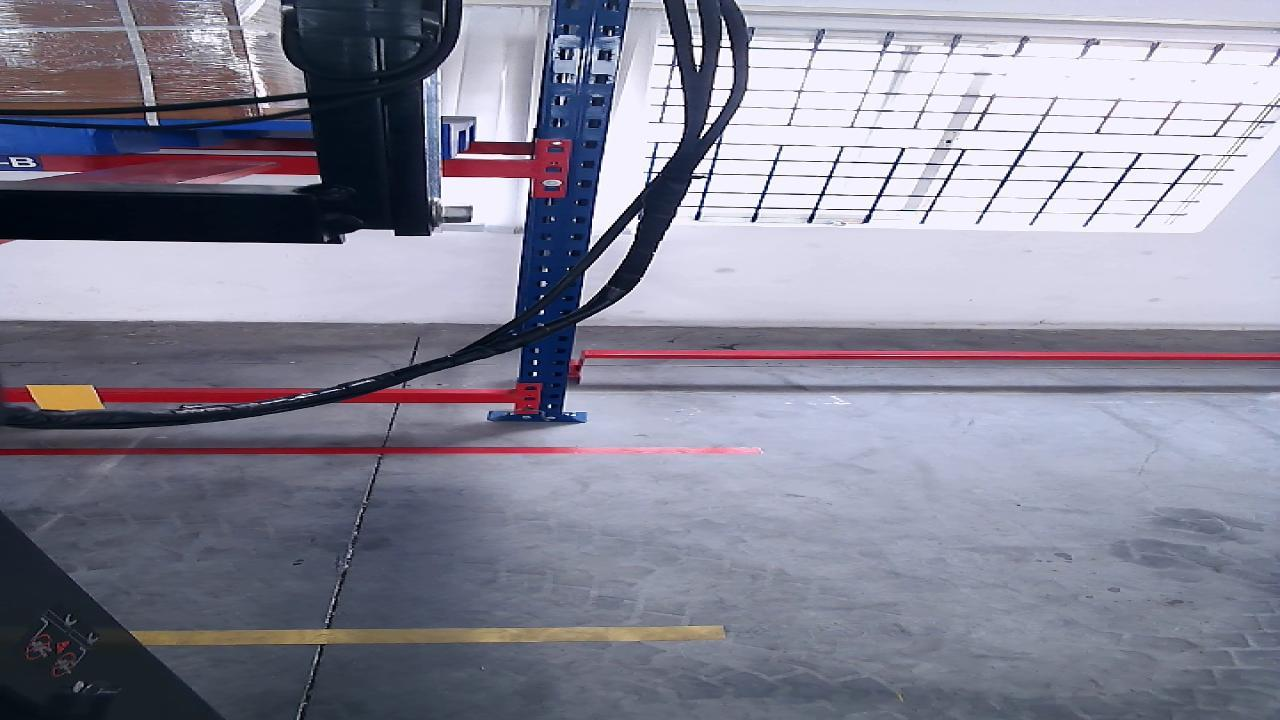h_rack: (3, 155, 531, 174), (3, 394, 517, 403)
red_line: (0, 446, 754, 456)
small_pallet: (0, 117, 451, 156)
yellow_line: (133, 625, 727, 645)
